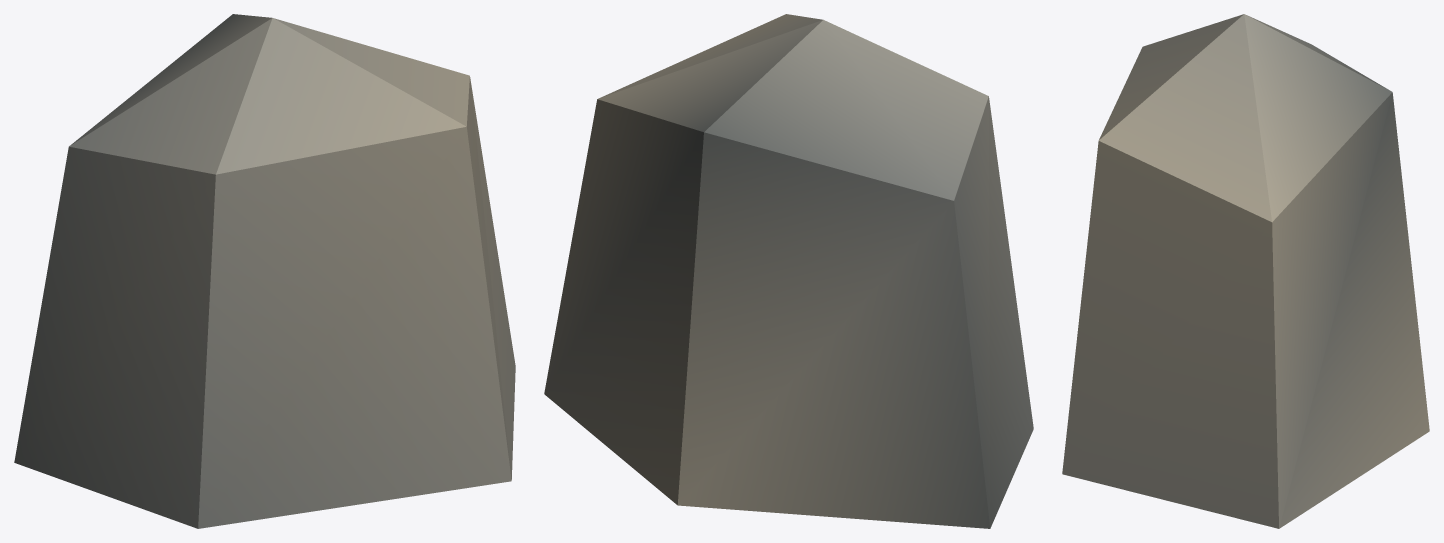
File: ENV_Rock_A_LOD1.glb
3 renders of one model, left to right at view 1: azimuth 30°, elevation 25°; view 2: azimuth 150°, elevation 25°; view 3: azimuth 270°, elevation 25°, orthographic. The views are drawn at different scales.
Visible parts, largest first — view 1: ENV_Rock_A_LOD1_rock; view 2: ENV_Rock_A_LOD1_rock; view 3: ENV_Rock_A_LOD1_rock.
Part boxes in pixels (x1=…): ENV_Rock_A_LOD1_rock: x1=14, y1=14, x2=515, y2=528; ENV_Rock_A_LOD1_rock: x1=544, y1=14, x2=1033, y2=528; ENV_Rock_A_LOD1_rock: x1=1062, y1=14, x2=1429, y2=528.
Bounding box in the file's own units: 1.17 × 1 × 0.8409.
